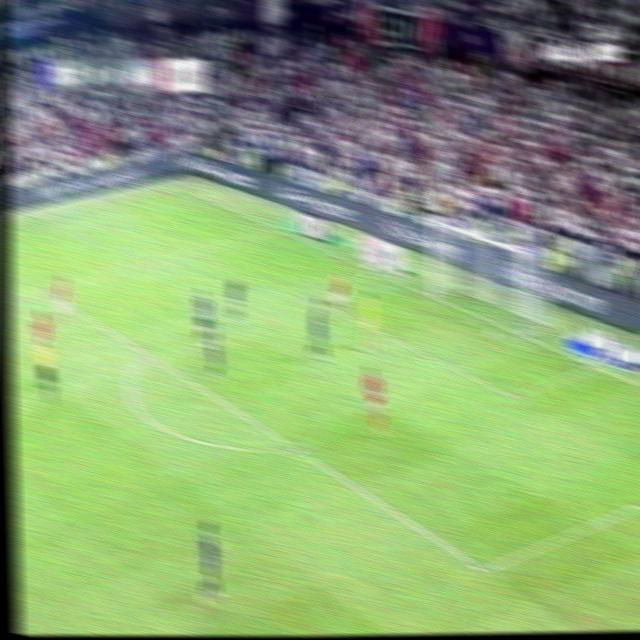bigarea_bottom_inner: (469, 551, 497, 584)
bigarea_top_inner: (31, 278, 55, 299)
bigarea_top_outter: (267, 220, 287, 237)
bottom_arc_area_intersection: (284, 435, 310, 462)
corner: (163, 178, 187, 192)
smallarea_bottom_inner: (498, 378, 525, 408)
smallarea_bottom_outter: (584, 355, 607, 374)
smallarea_top_inner: (293, 283, 315, 304)
smallarea_top_outter: (364, 261, 391, 281)
top_arc_area_intersection: (133, 341, 159, 365)
